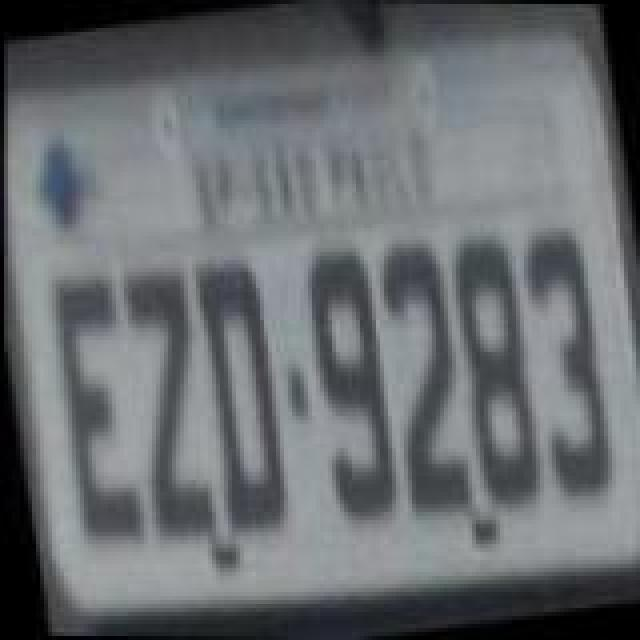2: (366, 234, 490, 522)
3: (504, 218, 624, 510)
8: (440, 224, 552, 516)
9: (288, 238, 412, 530)
D: (180, 248, 304, 540)
E: (38, 264, 158, 560)
Z: (106, 258, 226, 554)
